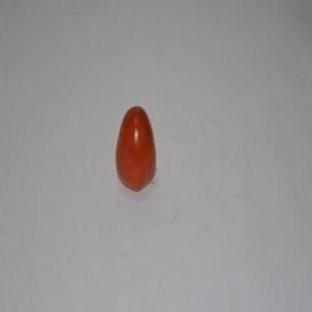Tomato: (116, 106, 155, 190)
